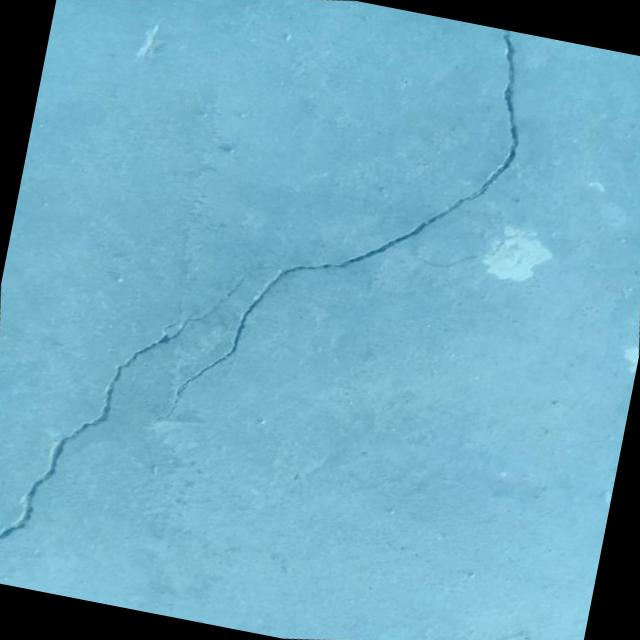crack: (72, 0, 586, 497), (0, 227, 289, 586)
